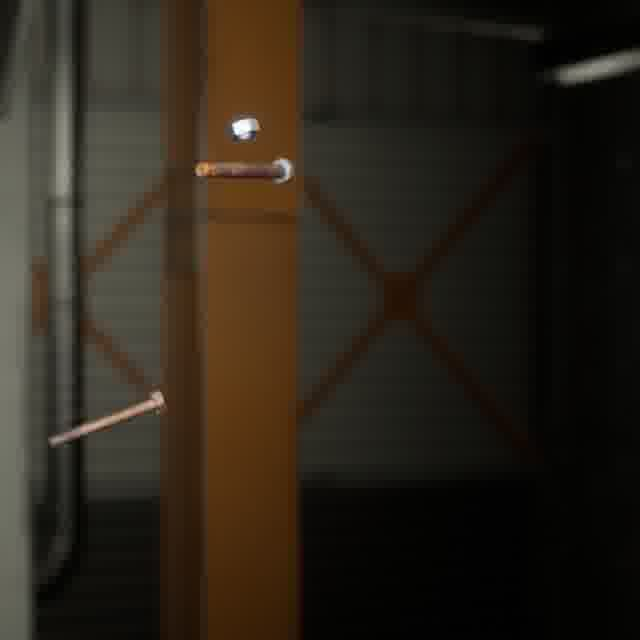bolt: (43, 383, 171, 452), (190, 153, 299, 188)
nut: (222, 114, 264, 145)
